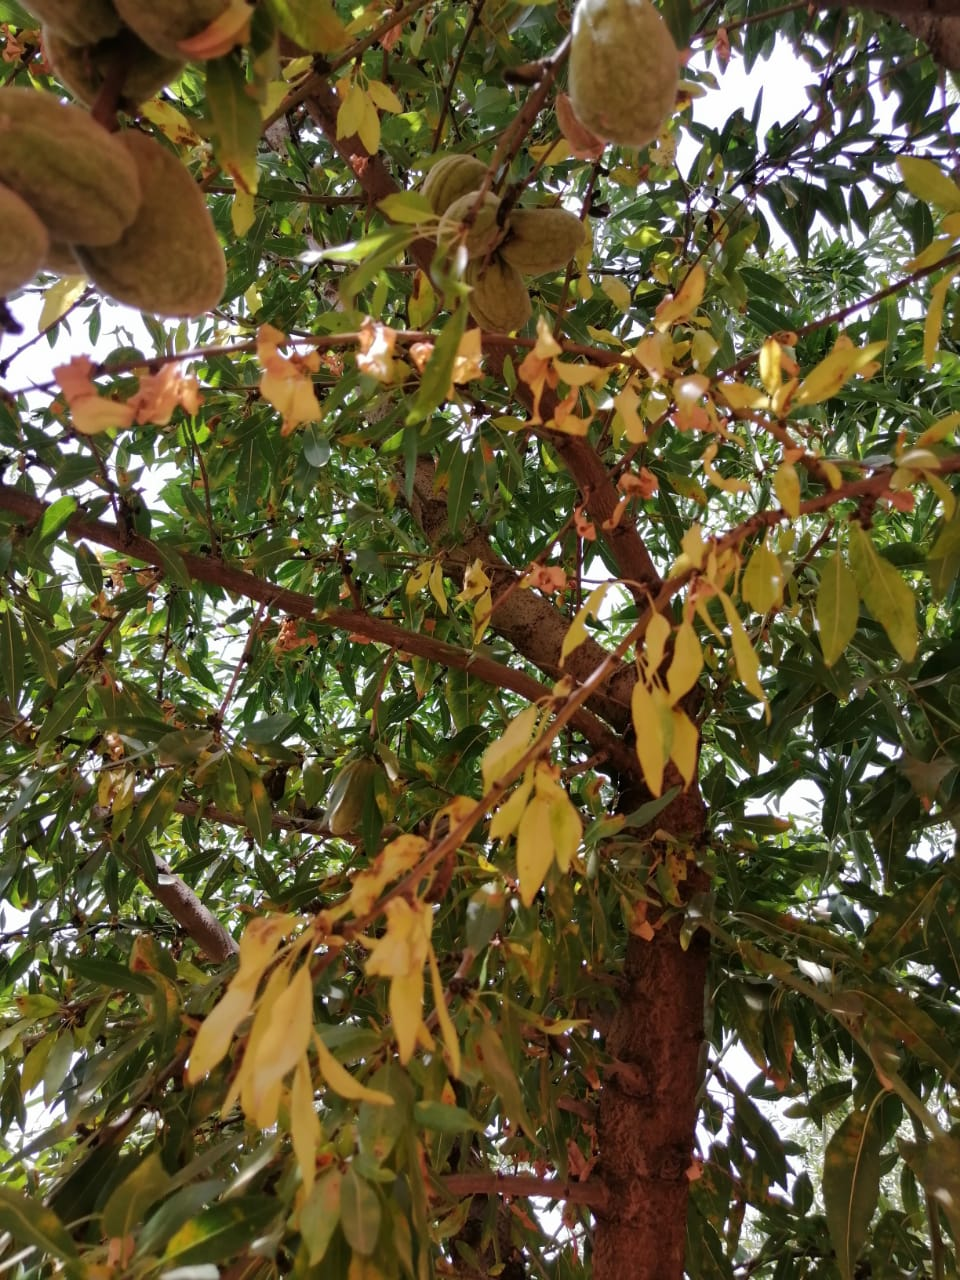chancre fusicocum: (187, 502, 842, 1177), (42, 267, 783, 446)
